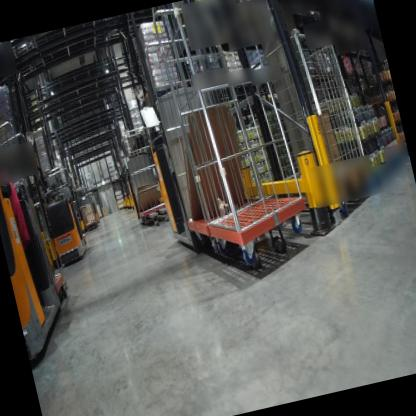pallet_truck: (137, 64, 320, 284), (0, 127, 97, 376), (27, 154, 98, 273), (114, 122, 173, 227), (76, 171, 105, 228)
